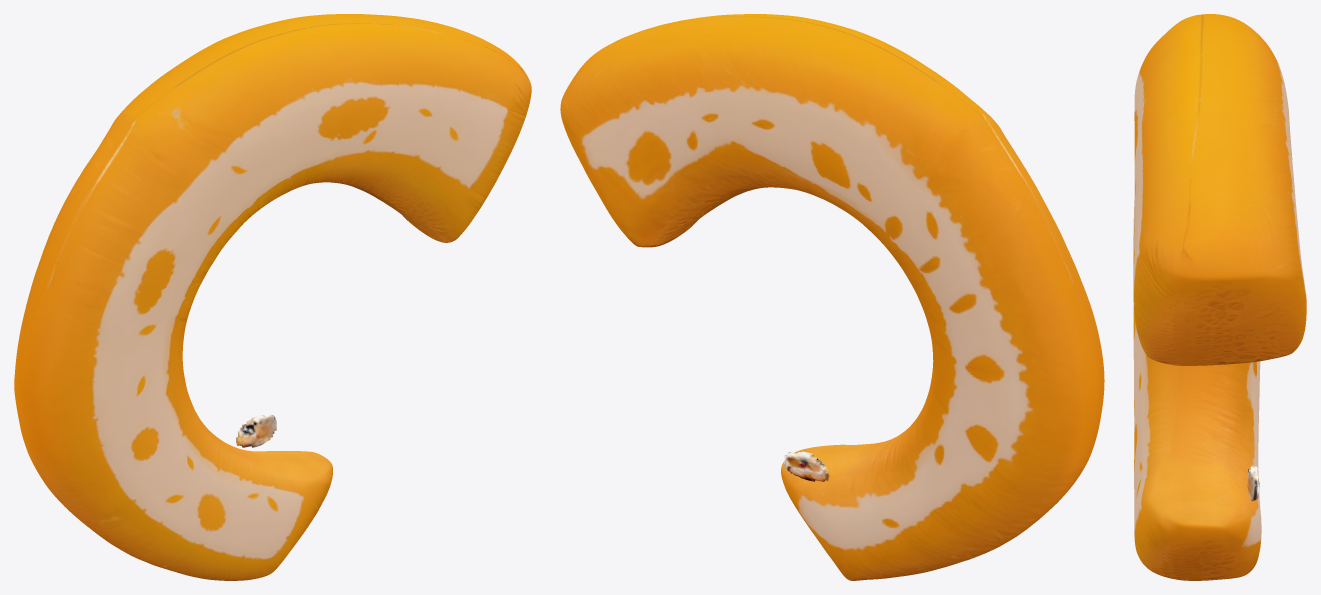
Rendered from base_basic_shaded.fbx.
3 views of the same model, side by side, from view 1: azimuth 30°, elevation 25°; view 2: azimuth 150°, elevation 25°; view 3: azimuth 270°, elevation 25° (orthographic). The views are drawn at different scales.
Visible parts, largest first — view 1: model; view 2: model; view 3: model.
Boxes of the visible parts, bbox=[...] form: model: bbox=[14, 14, 531, 580]; model: bbox=[560, 14, 1104, 580]; model: bbox=[1133, 14, 1306, 580].
Size of the model in its own units: 169 by 167 by 46.81.
